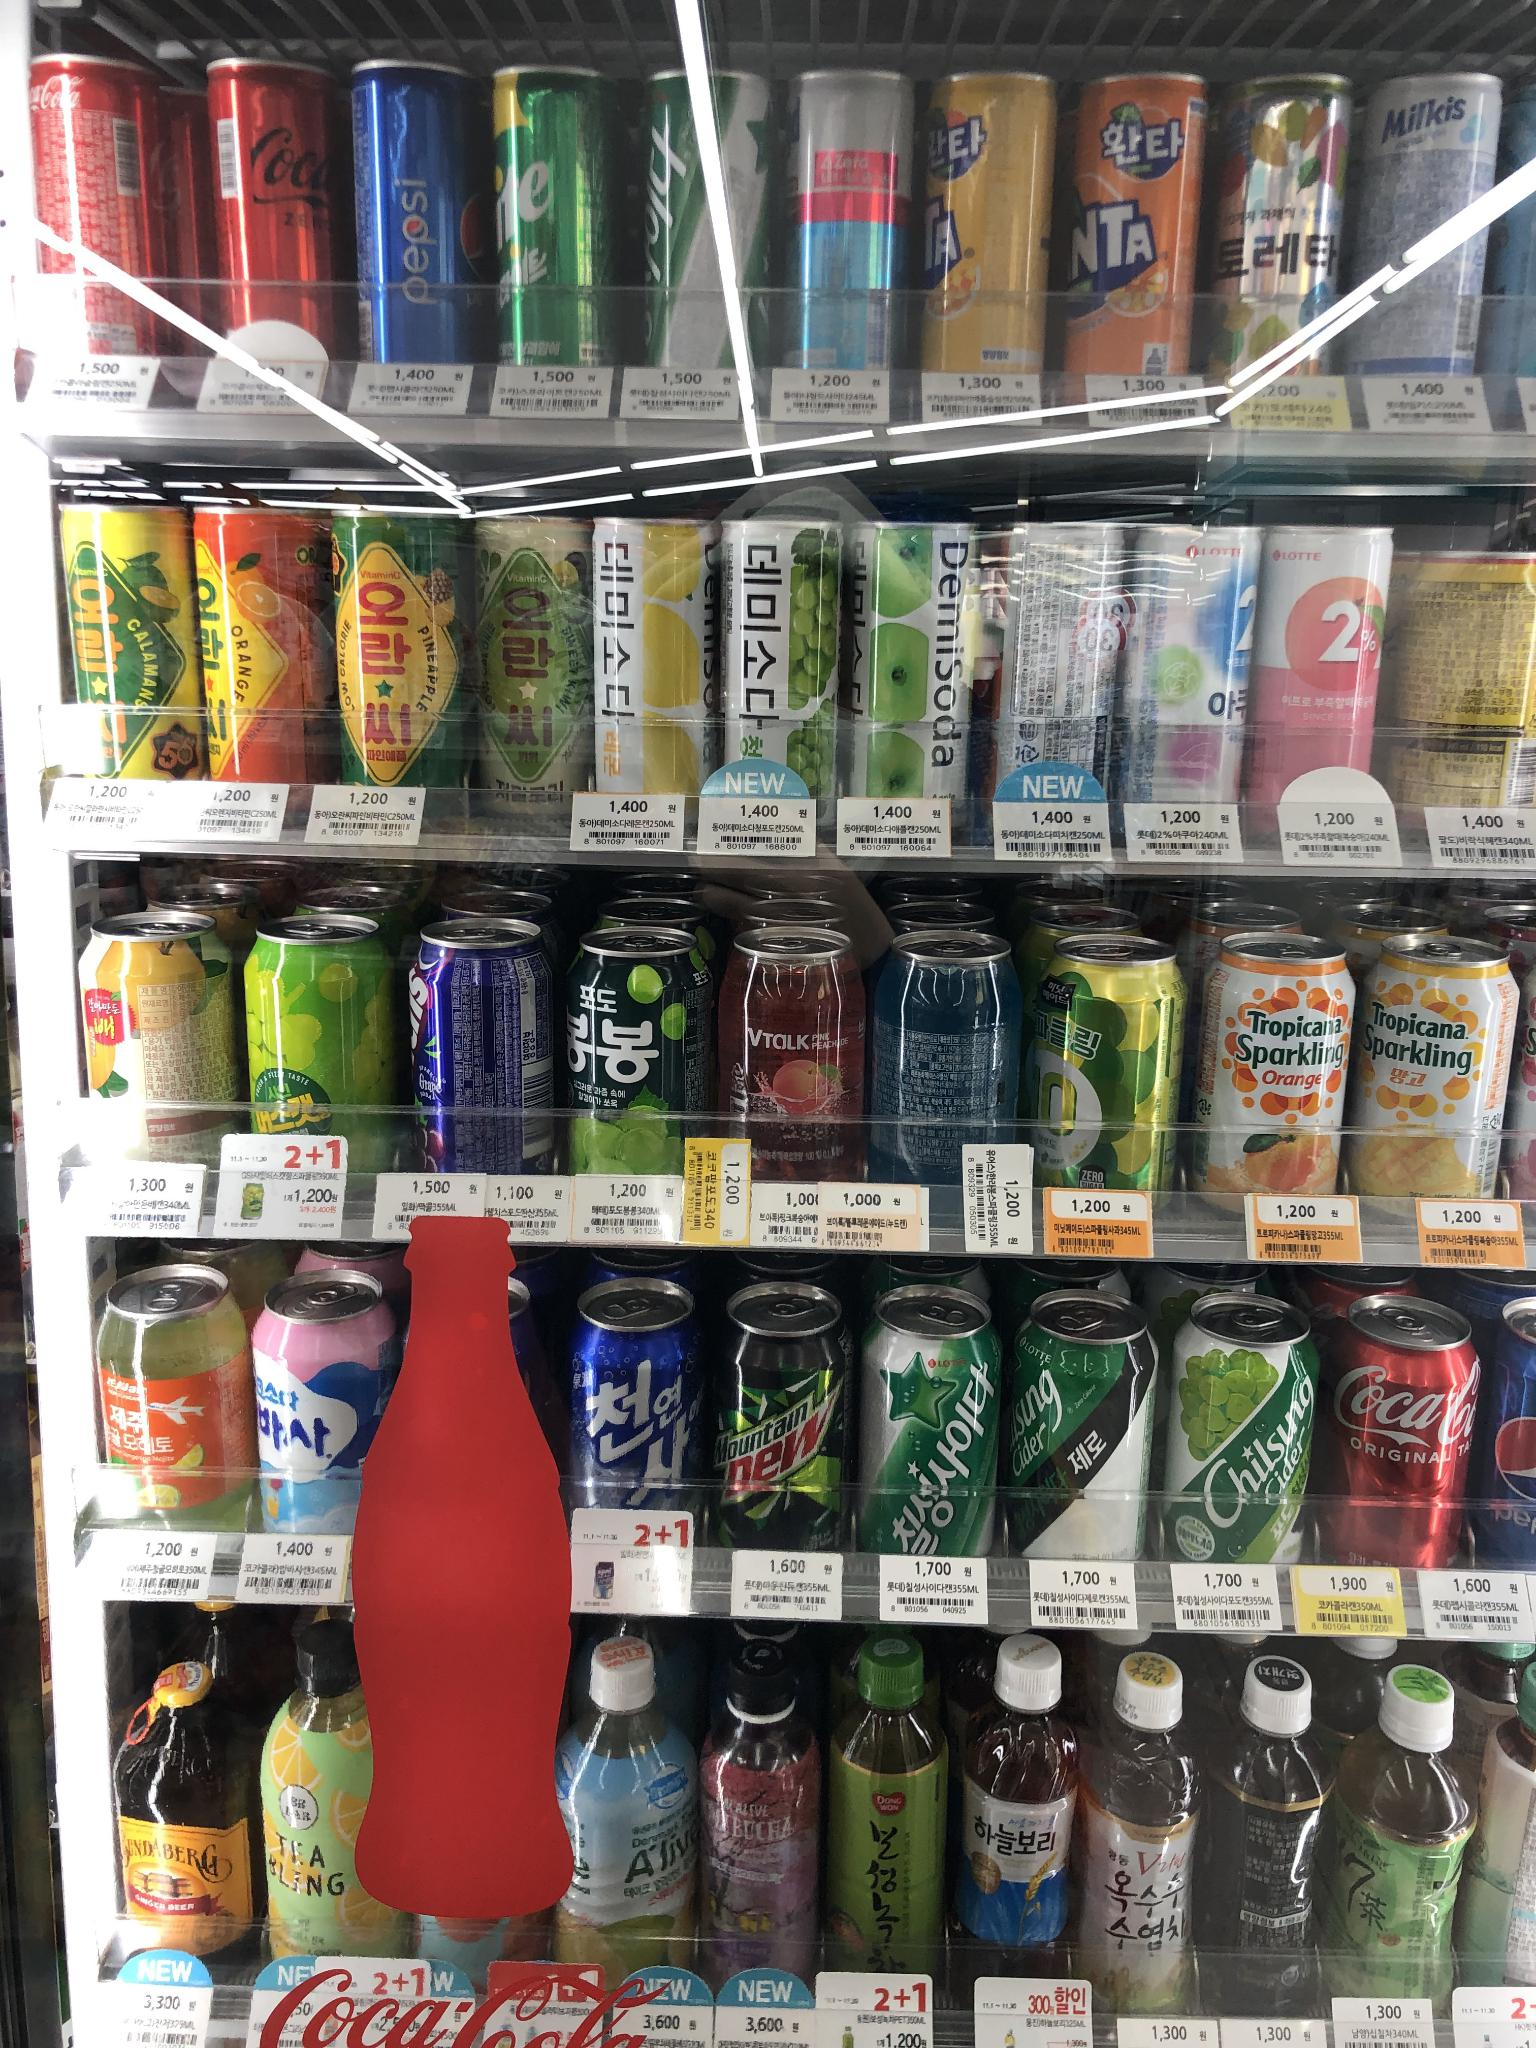chilsungcider: (839, 1274, 1010, 1572)
cocacola: (1325, 1292, 1483, 1576)
haneulbori: (966, 1614, 1092, 2003)
heotgaecha: (1199, 1643, 1349, 2016)
narangdcider: (781, 58, 916, 393)
oksususuyeomcha: (1068, 1648, 1212, 2006)
welchs_grape: (395, 906, 579, 1176)
